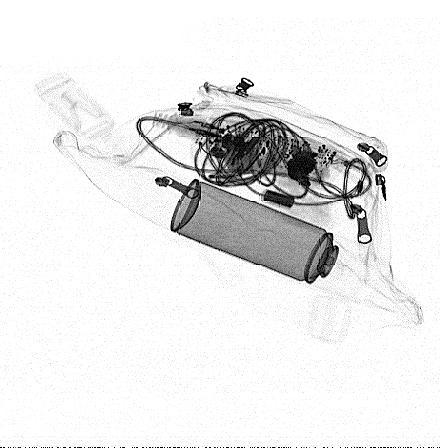Sprayer: (170, 178, 378, 304)
